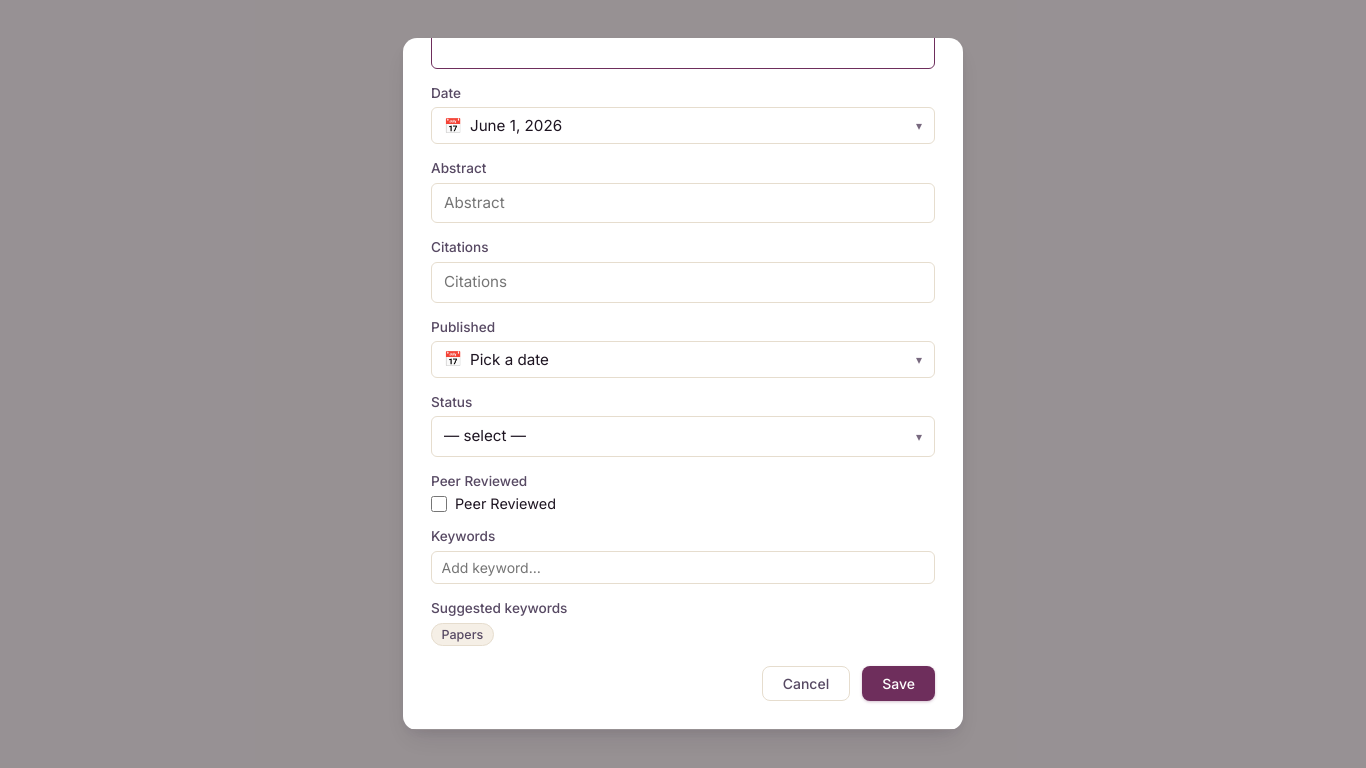
clicking an existing suggested keyword selects it without creating
(page scrolled)
Step 1. Click the button "Papers" → click(462, 634), box [431, 623, 494, 646]
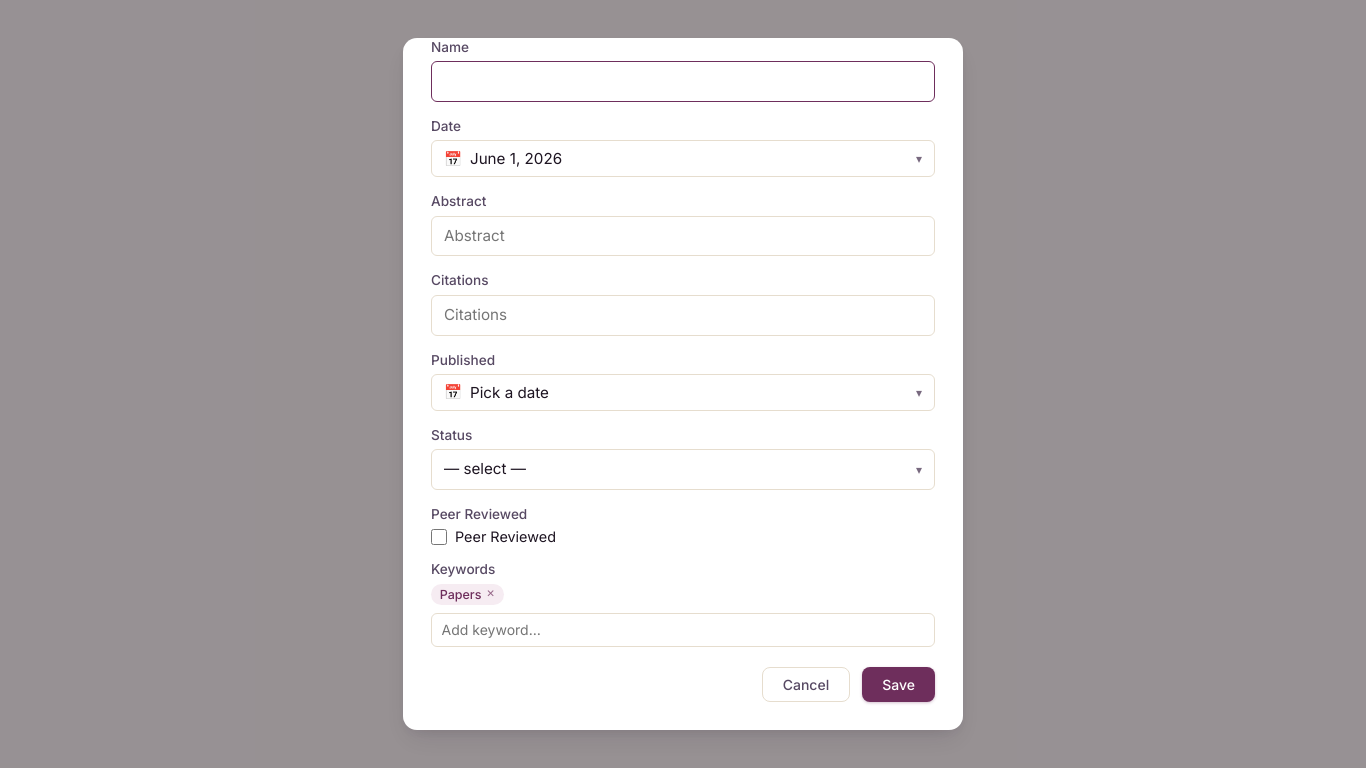
Now the text "Papers" is shown, box [440, 587, 481, 602]
